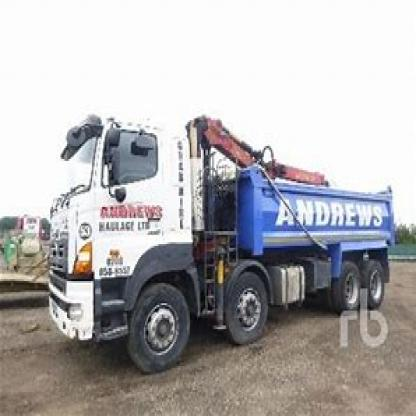dump_truck: (36, 107, 395, 370)
